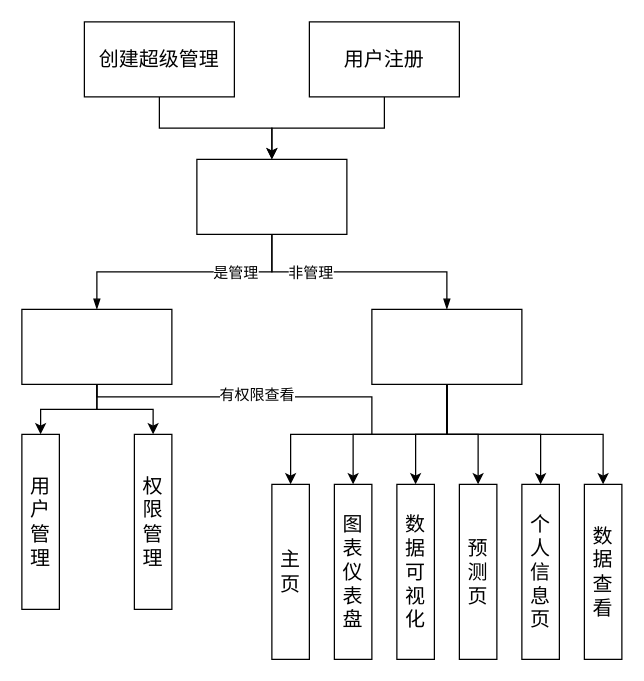
Some shapes in this 644 by 681 pixel diagram are drawn without their labels. The shapes that lost their labels are listed below. From the top down, each one's box as (x1, y1, x2, y2) in pixels, then its label:
(196, 158, 347, 234): 登录
(21, 308, 172, 384): 管理员端
(371, 308, 522, 384): 用户端
